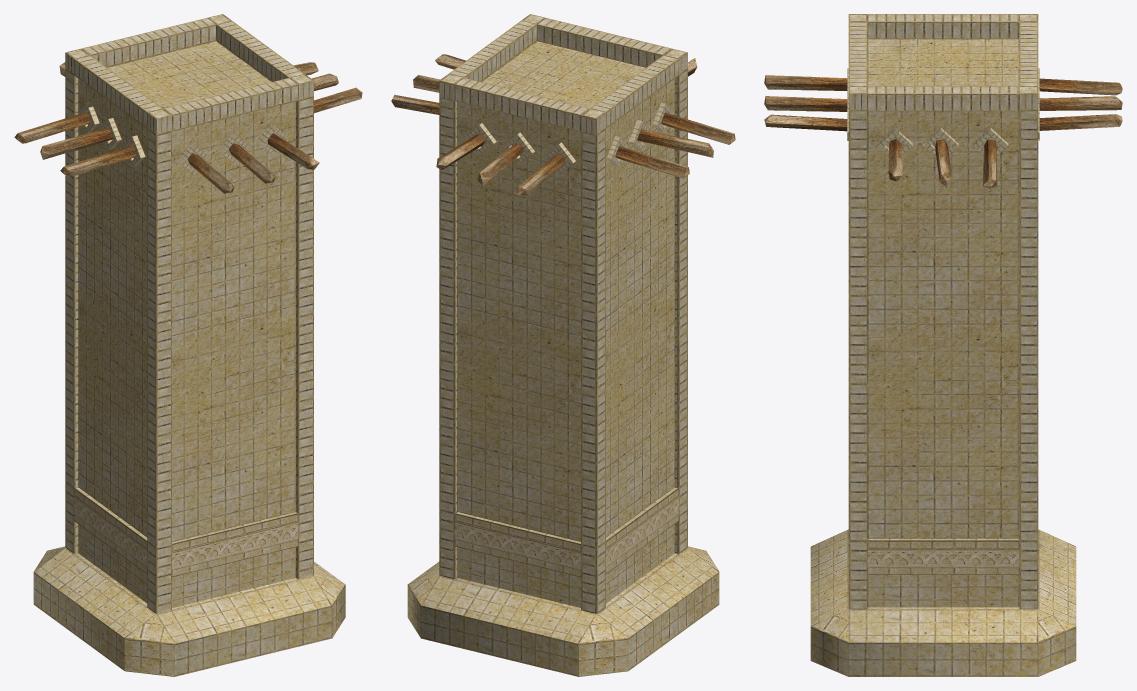
Rendered from tutorial_structure_large_tower.dae.
3 renders of one model, left to right at view 1: azimuth 30°, elevation 25°; view 2: azimuth 150°, elevation 25°; view 3: azimuth 270°, elevation 25°, orthographic. The views are drawn at different scales.
Visible parts, largest first — view 1: tutorial_structure_large_tower; view 2: tutorial_structure_large_tower; view 3: tutorial_structure_large_tower.
Part boxes in pixels (x1,y1,x2,y2): tutorial_structure_large_tower: (14, 14, 362, 676); tutorial_structure_large_tower: (391, 14, 735, 676); tutorial_structure_large_tower: (764, 14, 1122, 676).
Bounding box in the file's own units: 7.45 × 7.45 × 12.99.
4 materials, 4 textured.
